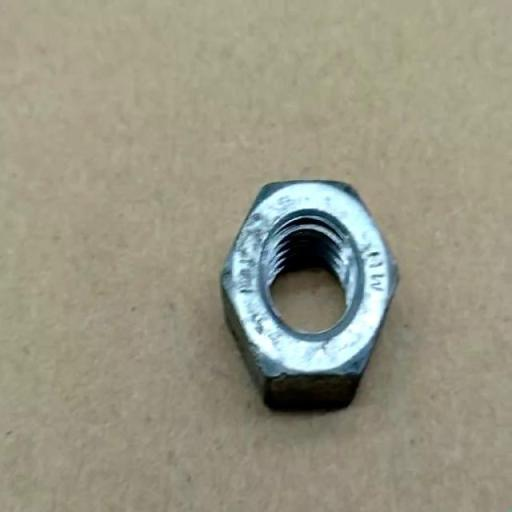Nut: (220, 179, 400, 414)
